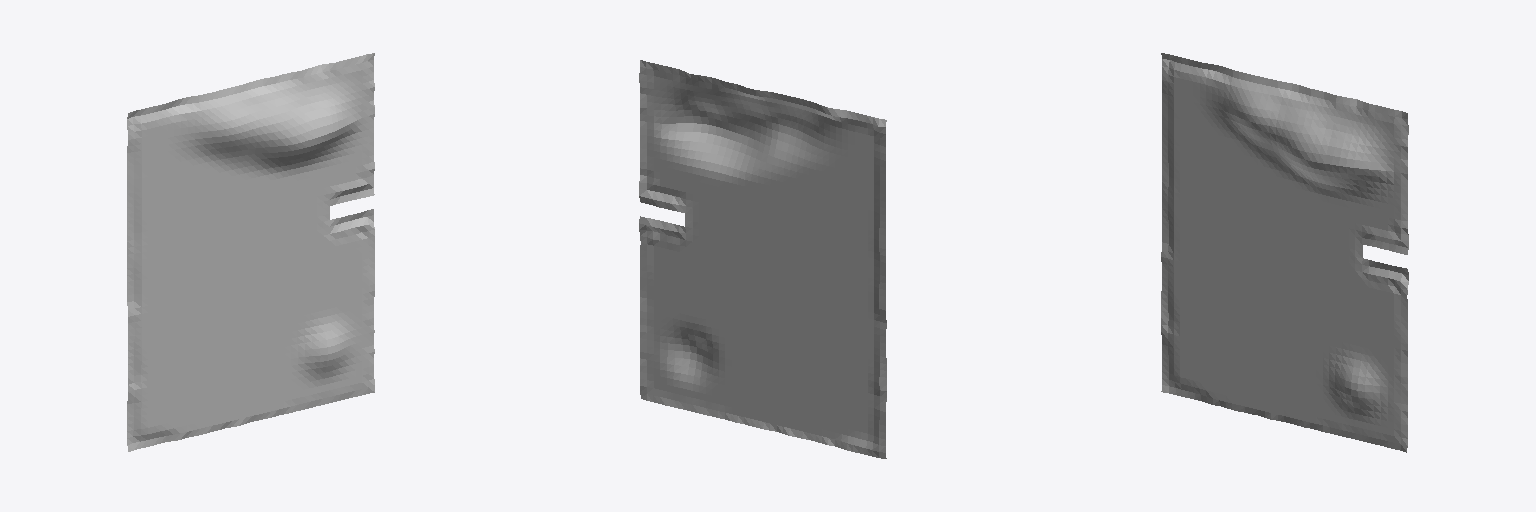
Rendered from landscape.obj.
The picture shows the model from 3 angles: view 1: azimuth 30°, elevation 25°; view 2: azimuth 150°, elevation 25°; view 3: azimuth 330°, elevation 25°; orthographic projection.
Visible parts, largest first — view 1: Plane_Plane.008; view 2: Plane_Plane.008; view 3: Plane_Plane.008.
Part boxes in pixels (x1,y1,x2,y2): Plane_Plane.008: (127, 53, 374, 451); Plane_Plane.008: (639, 60, 886, 458); Plane_Plane.008: (1161, 53, 1408, 452).
Bounding box in the file's own units: 38.02 × 50.04 × 3.66.